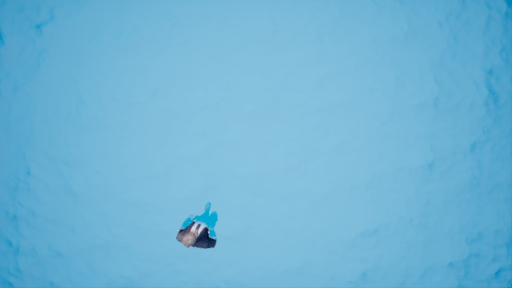person: (176, 203, 224, 251)
